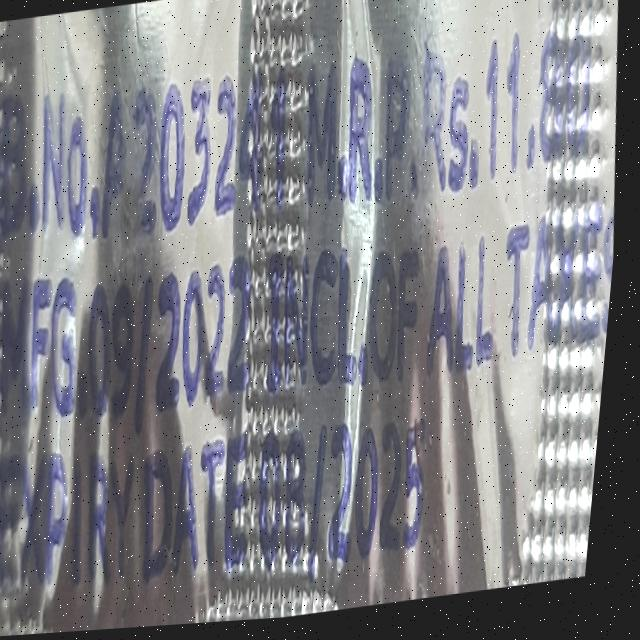sentence: (7, 203, 618, 420), (4, 32, 595, 242), (7, 423, 432, 604)
